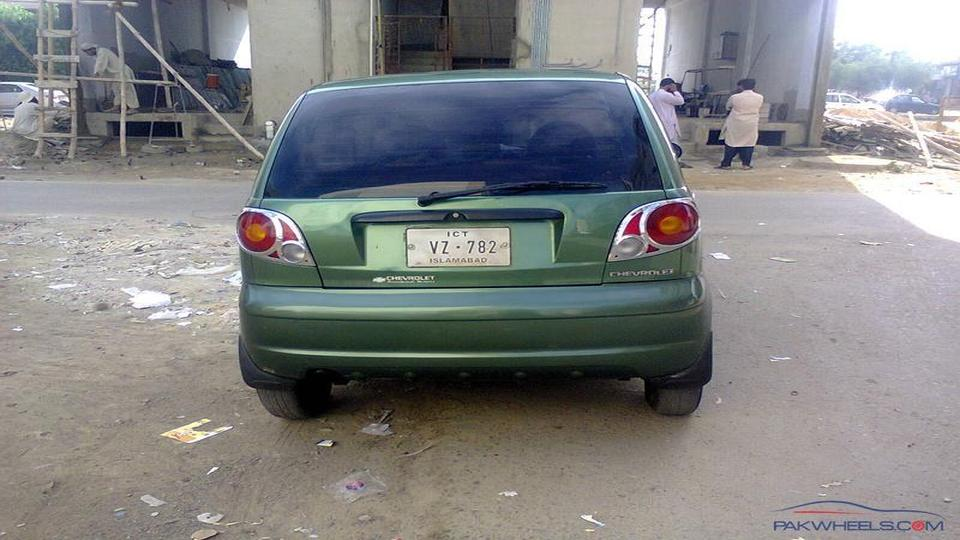NumberPlate: (396, 221, 517, 270)
